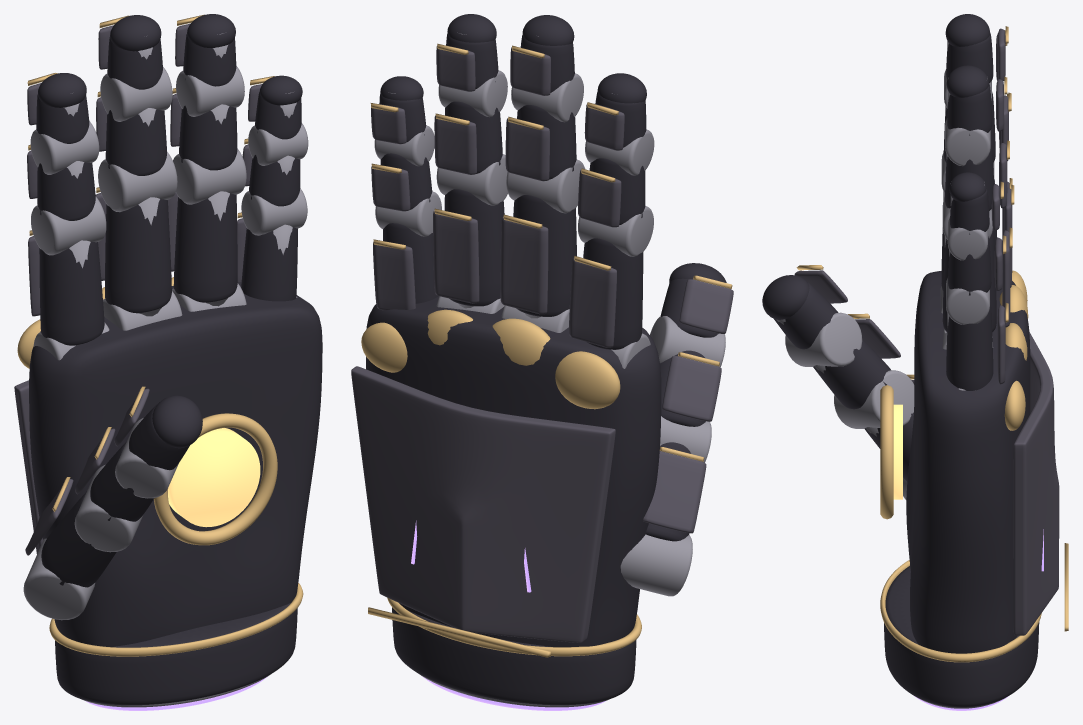
Rendered from hand3.glb.
The picture shows the model from 3 angles, left to right: view 1: azimuth 30°, elevation 25°; view 2: azimuth 150°, elevation 25°; view 3: azimuth 270°, elevation 25°; orthographic projection. The views are drawn at different scales.
Visible parts, largest first — view 1: palm, cuff, palm_light, f1_s0_shell, f2_s0_shell, f0_s0_shell, palm_ring, f3_s0_shell, f1_s1_shell, thumb_s0_shell, f2_s1_shell, f1_s1_joint (+37 smaller); view 2: plate_back, palm, cuff, f1_s0_plate, f2_s0_plate, f1_s0_shell, f0_s0_plate, thumb_s0_plate, thumb_s0_joint, f0_s0_shell, f2_s0_shell, thumb_s1_plate (+45 smaller); view 3: palm, plate_back, cuff, f3_s0_shell, thumb_s2_joint, thumb_s1_shell, thumb_s1_joint, cuff_trim, thumb_s2_shell, palm_ring, thumb_s2_tip, f2_s2_shell (+19 smaller).
Part boxes in pixels (x1=…): palm: x1=29, y1=282, x2=322, y2=647; cuff: x1=55, y1=603, x2=297, y2=705; palm_light: x1=168, y1=428, x2=260, y2=527; f1_s0_shell: x1=105, y1=199, x2=171, y2=313; f2_s0_shell: x1=173, y1=193, x2=237, y2=302; f0_s0_shell: x1=39, y1=242, x2=104, y2=345; palm_ring: x1=153, y1=413, x2=277, y2=545; f3_s0_shell: x1=241, y1=227, x2=297, y2=301; f1_s1_shell: x1=105, y1=109, x2=166, y2=175; thumb_s0_shell: x1=41, y1=491, x2=116, y2=587; f2_s1_shell: x1=179, y1=105, x2=237, y2=170; f1_s1_joint: x1=98, y1=151, x2=177, y2=212; plate_back: x1=351, y1=366, x2=615, y2=642; palm: x1=366, y1=296, x2=661, y2=647; cuff: x1=392, y1=607, x2=636, y2=705; f1_s0_plate: x1=500, y1=216, x2=548, y2=314; f2_s0_plate: x1=433, y1=211, x2=479, y2=303; f1_s0_shell: x1=513, y1=195, x2=576, y2=316; f0_s0_plate: x1=569, y1=257, x2=616, y2=347; thumb_s0_plate: x1=643, y1=451, x2=706, y2=533; thumb_s0_joint: x1=620, y1=534, x2=692, y2=596; f0_s0_shell: x1=583, y1=238, x2=643, y2=349; f2_s0_shell: x1=444, y1=189, x2=504, y2=306; thumb_s1_plate: x1=662, y1=356, x2=721, y2=421; palm: x1=906, y1=271, x2=1030, y2=653; plate_back: x1=1013, y1=332, x2=1059, y2=635; cuff: x1=884, y1=566, x2=1039, y2=707; f3_s0_shell: x1=946, y1=300, x2=993, y2=390; thumb_s2_joint: x1=785, y1=312, x2=862, y2=366; thumb_s1_shell: x1=813, y1=339, x2=890, y2=409; thumb_s1_joint: x1=834, y1=370, x2=914, y2=428; cuff_trim: x1=880, y1=560, x2=1041, y2=662; thumb_s2_shell: x1=773, y1=282, x2=838, y2=349; palm_ring: x1=880, y1=385, x2=893, y2=519; thumb_s2_tip: x1=762, y1=275, x2=809, y2=319; f2_s2_shell: x1=947, y1=83, x2=992, y2=135.
Bounding box in the file's own units: 1.05 × 2.21 × 0.9658.
